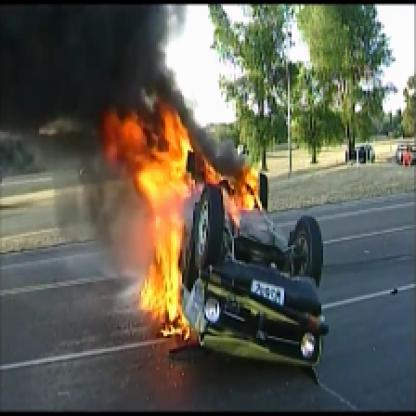Fire: (99, 100, 258, 336)
